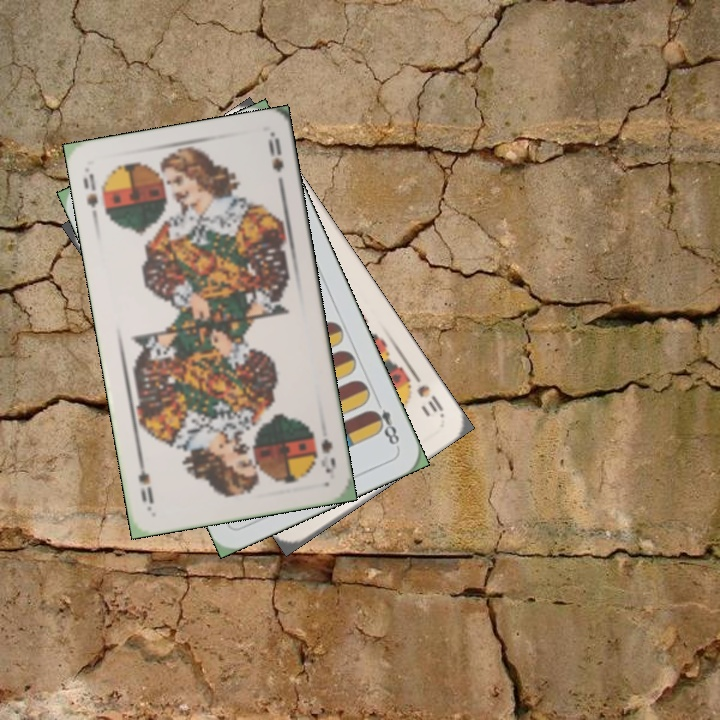E8: (366, 394, 402, 448)
S10: (407, 366, 446, 419)
SO: (79, 169, 101, 224), (317, 435, 339, 476)
